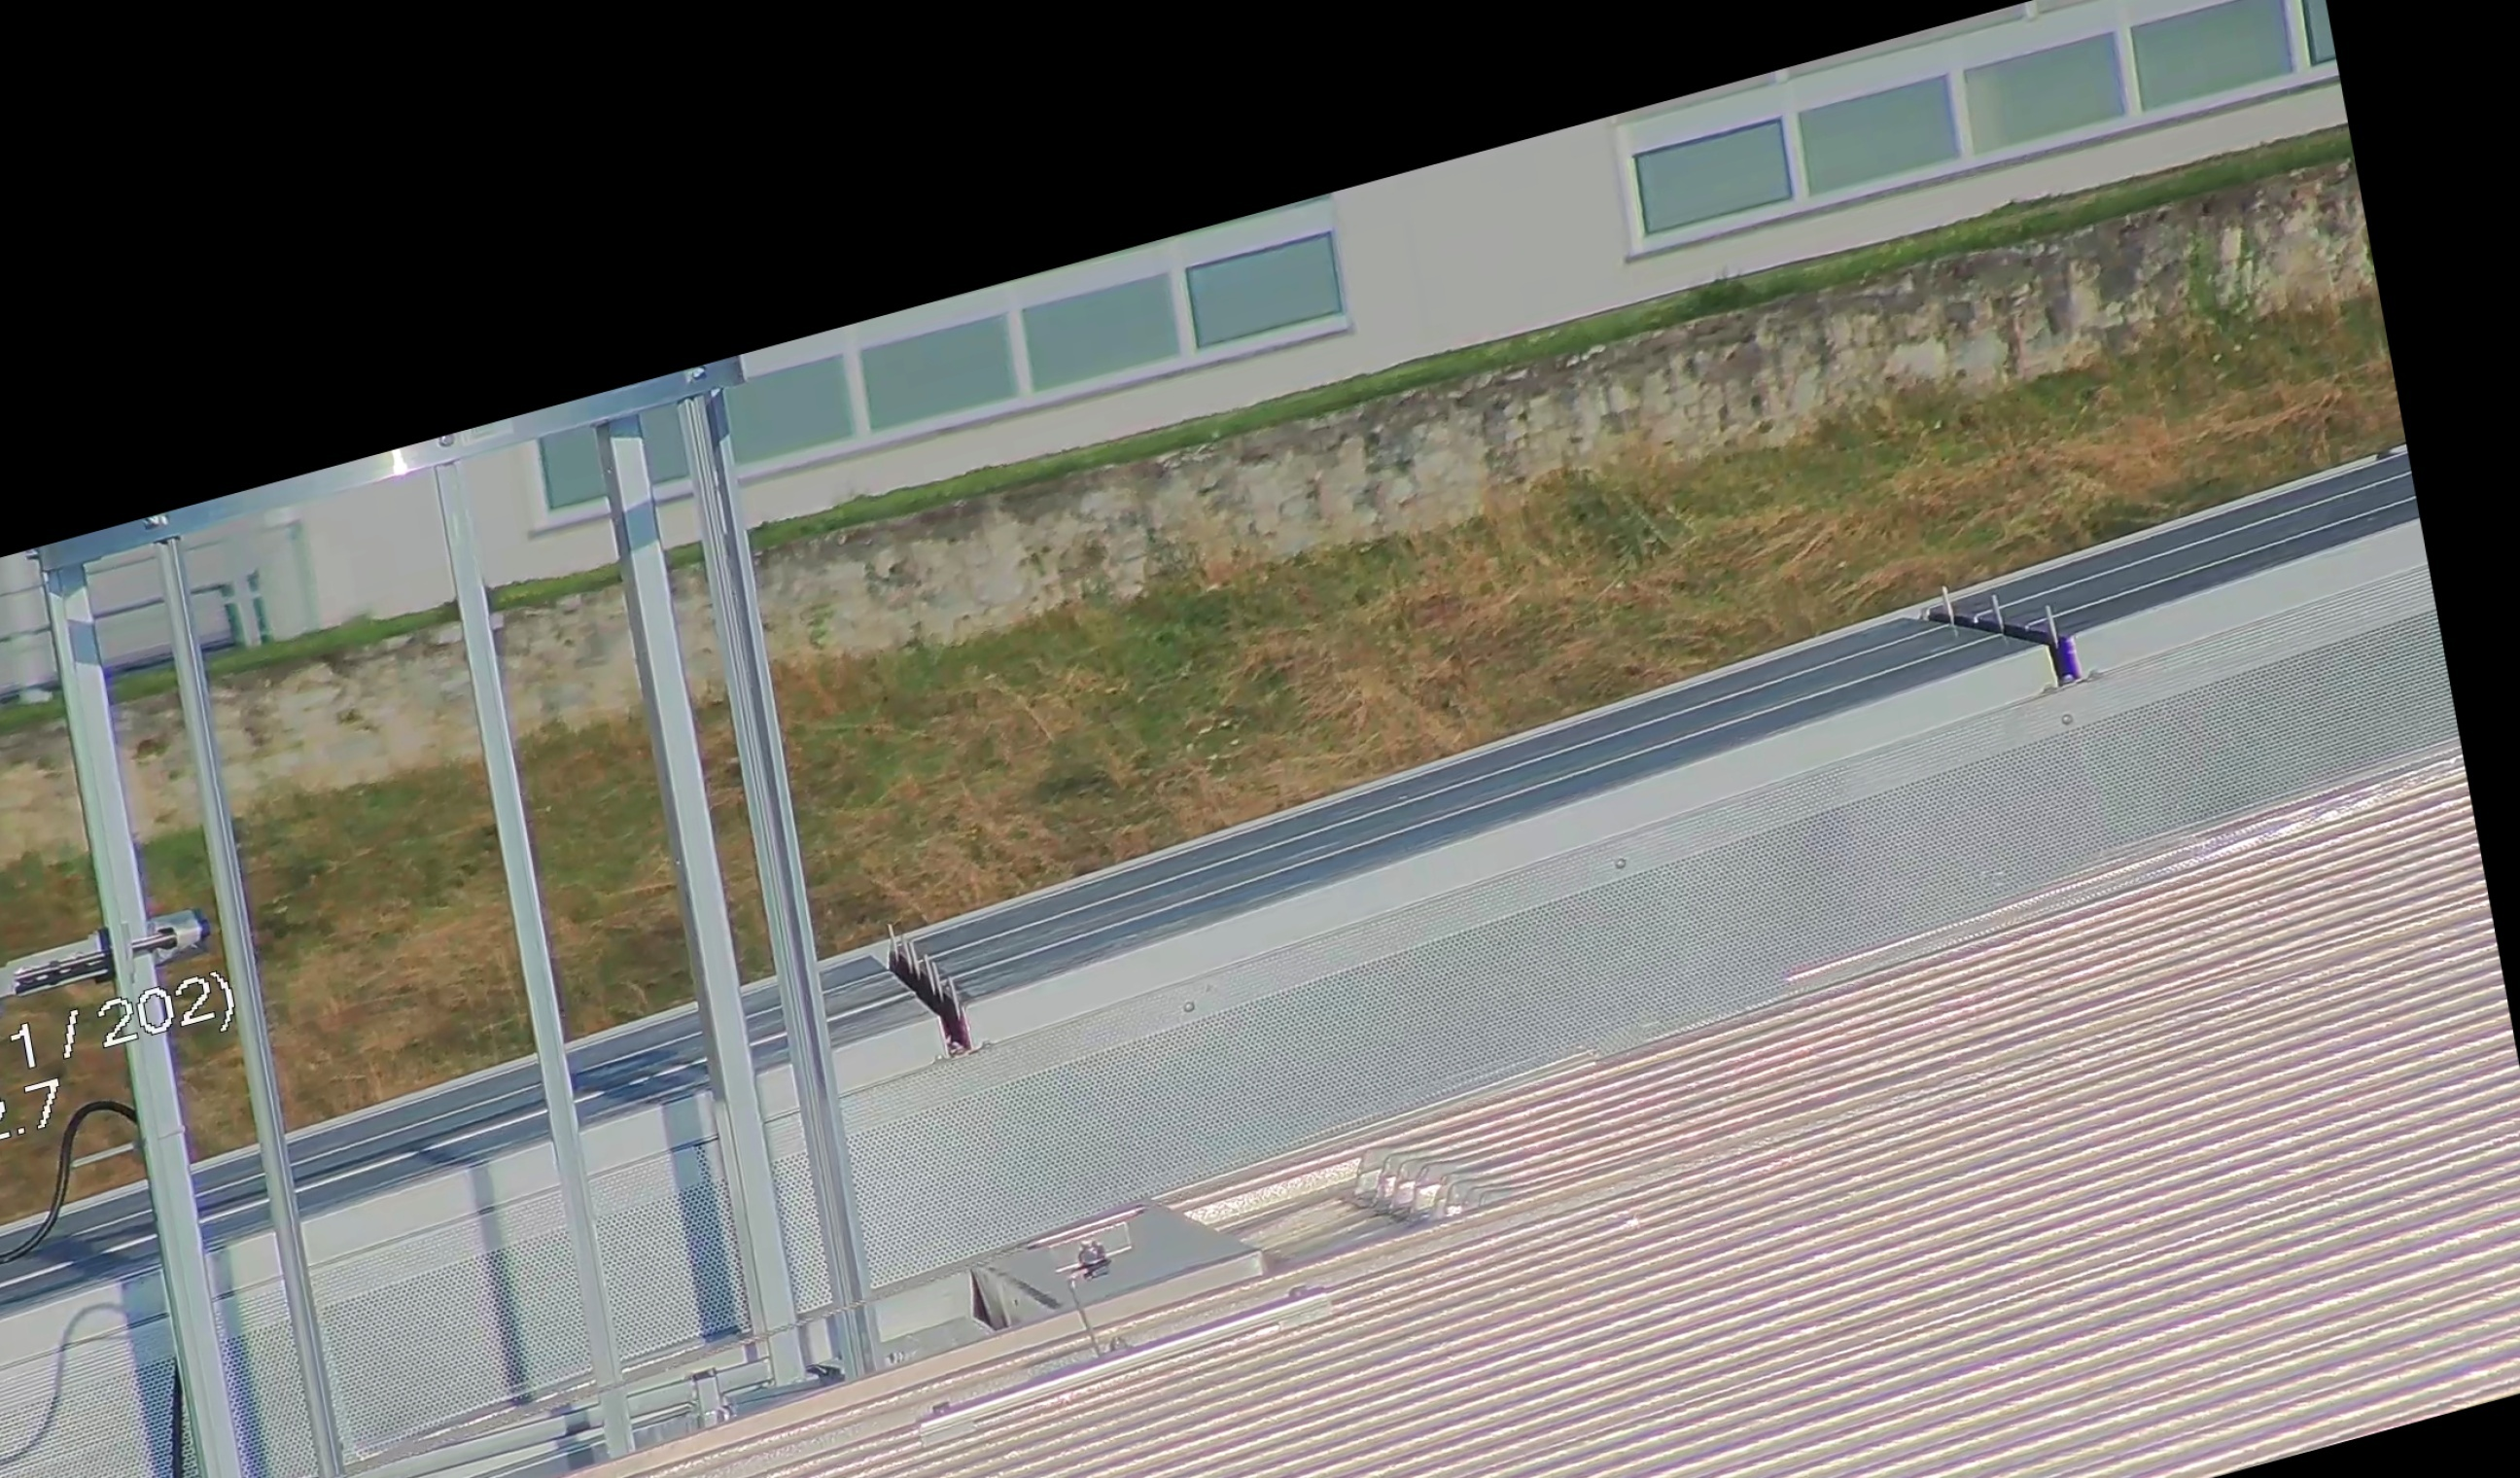Other: (849, 897, 992, 1082)
